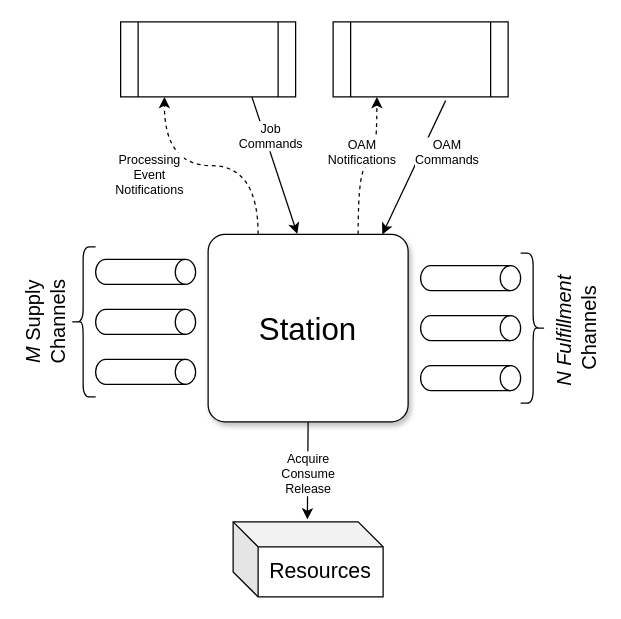
Image size: 621x619. Some labels were removed from this diagram. The shapes that lost their labels are listed below. From the top down, each one's centre as x and y in pixels, then its label:
At (x=207, y=59): "Control".
At (x=420, y=59): "Management".
